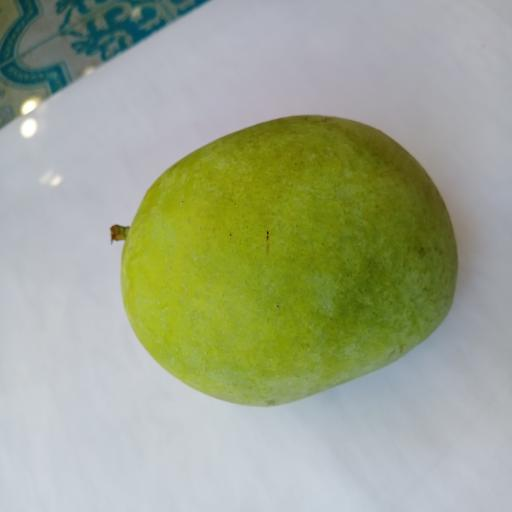mango-unripe: (92, 102, 469, 415)
